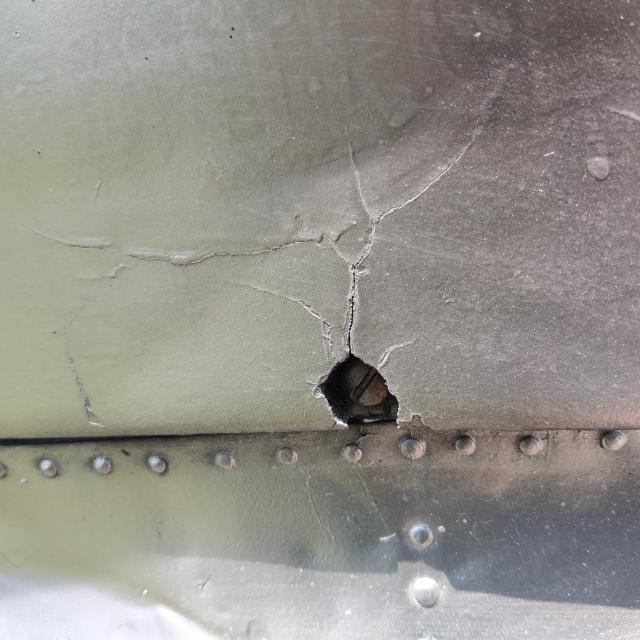Crack: (238, 60, 508, 433)
